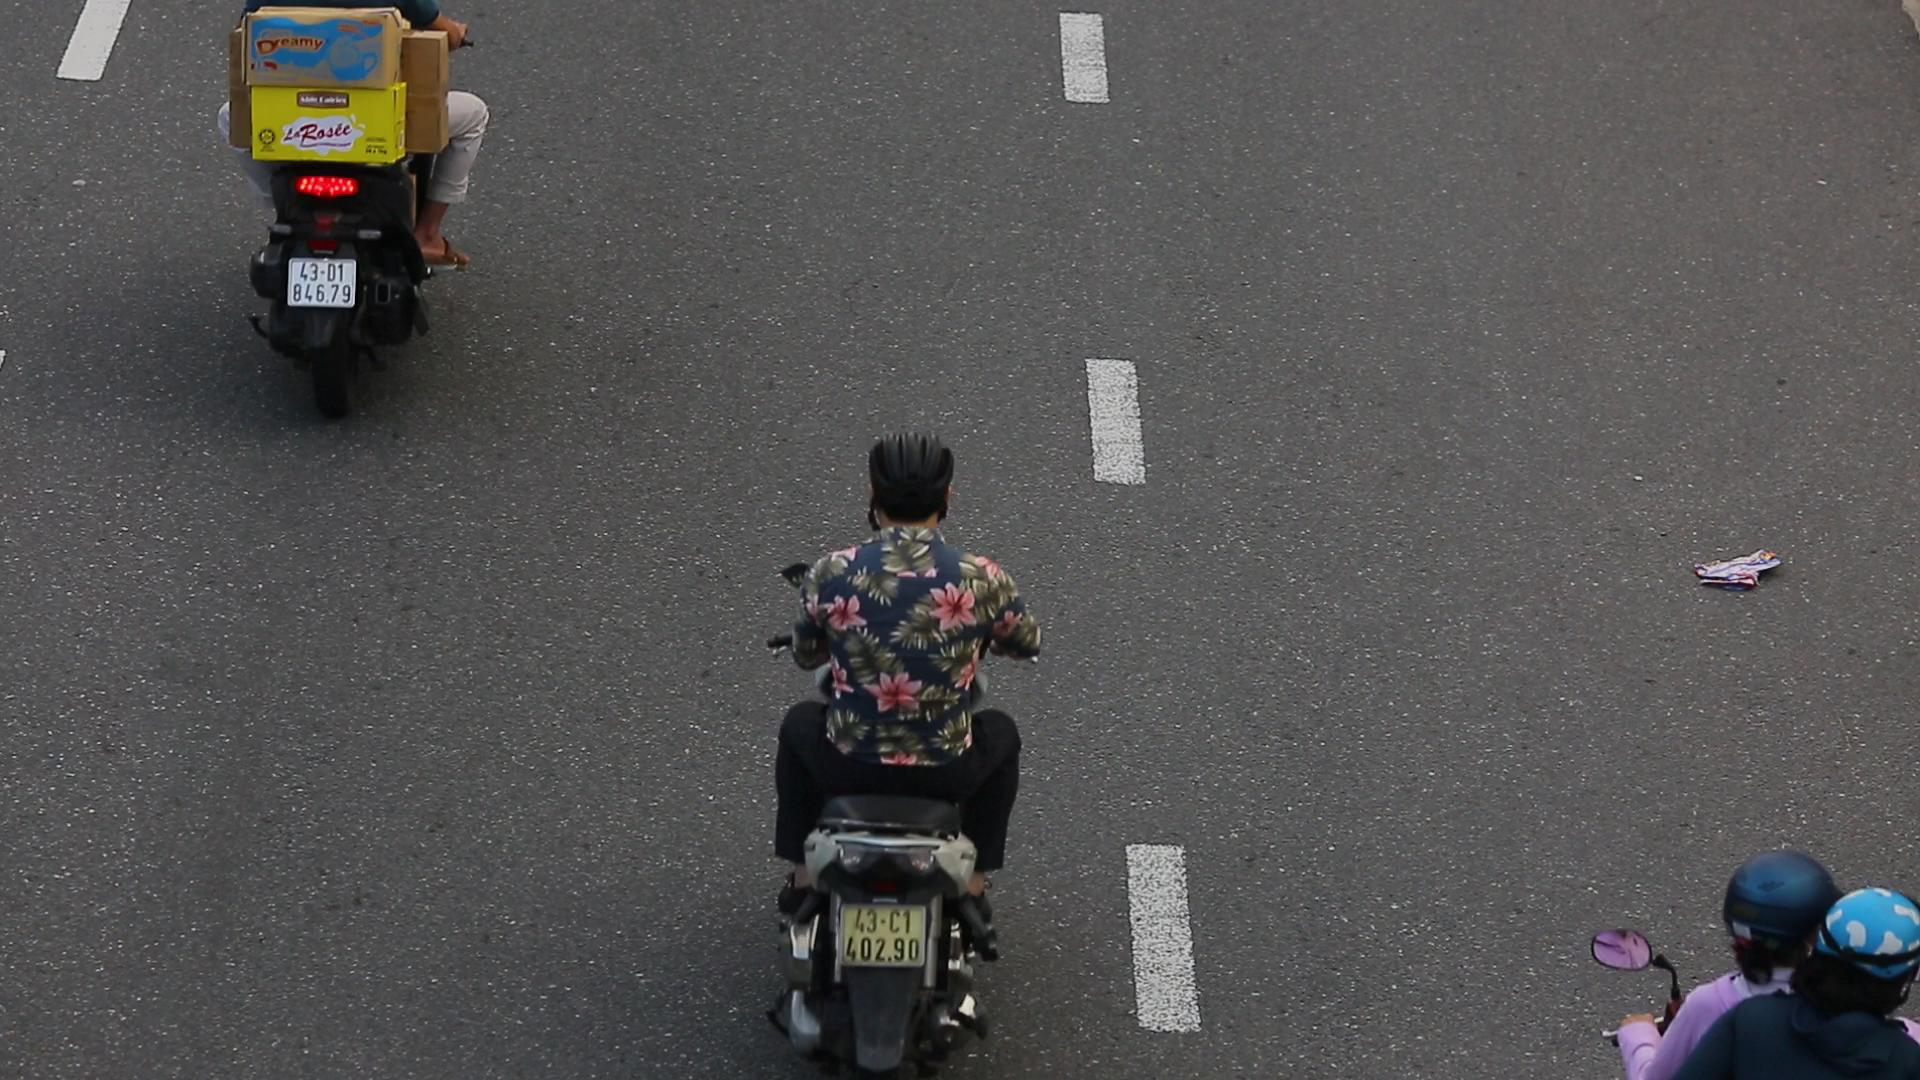motobike: (732, 404, 1047, 1080)
